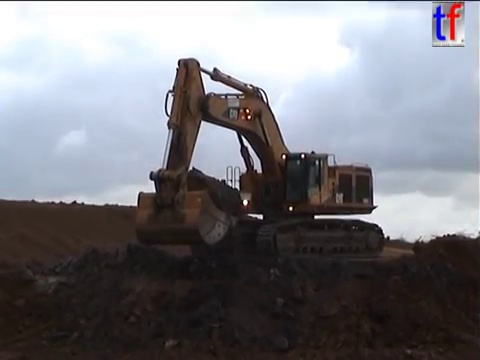excavator: (132, 55, 387, 261)
